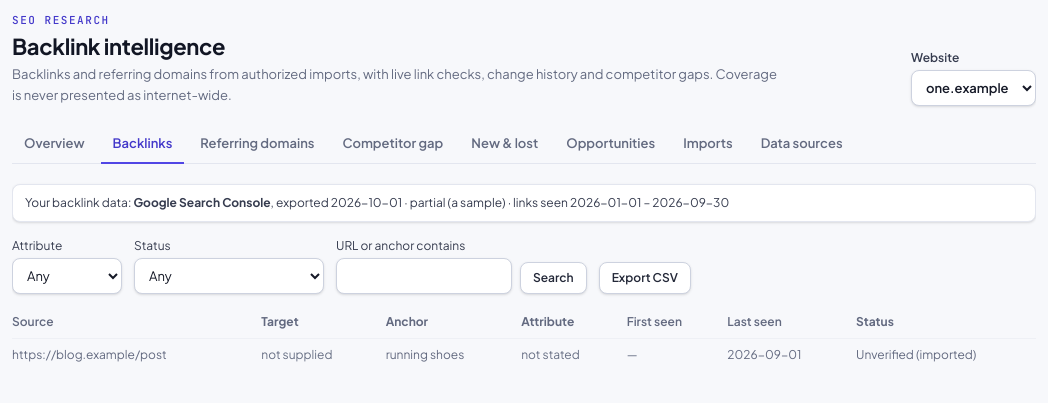
it: Backlinks list › reports an export the role cannot perform
Click the button "Export CSV" at (645, 278), box [599,262,691,294]
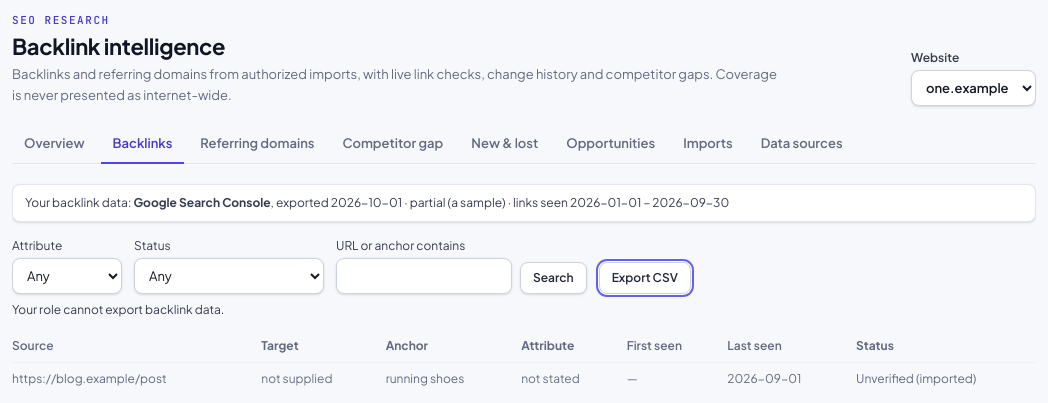
Now the text "Your role cannot export backlink data." is shown, box [12,302,224,317]
